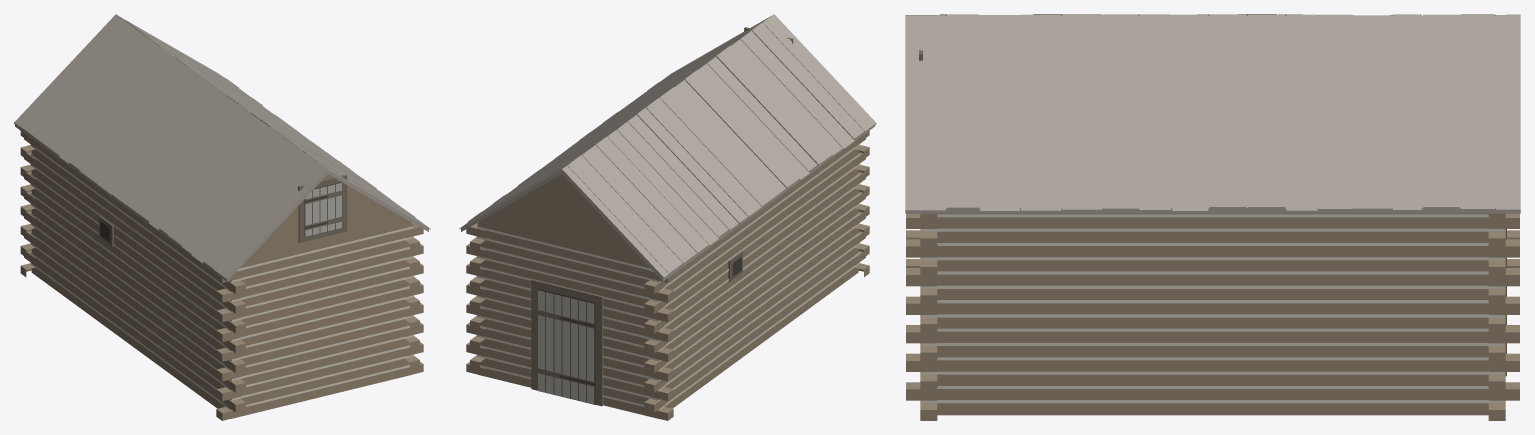
File: recon_1835_blk_washington_wells_a1_11__inferred_1835.glb
3 views of the same model, side by side, from view 1: azimuth 30°, elevation 25°; view 2: azimuth 150°, elevation 25°; view 3: azimuth 270°, elevation 25° (orthographic). The views are drawn at different scales.
Visible parts, largest first — view 1: recon_1835_blk_washington_wells_a1_11__inferred_1835; view 2: recon_1835_blk_washington_wells_a1_11__inferred_1835; view 3: recon_1835_blk_washington_wells_a1_11__inferred_1835.
Part boxes in pixels (<box>): recon_1835_blk_washington_wells_a1_11__inferred_1835: <box>14,14,430,420</box>; recon_1835_blk_washington_wells_a1_11__inferred_1835: <box>459,14,876,420</box>; recon_1835_blk_washington_wells_a1_11__inferred_1835: <box>905,14,1520,420</box>.
Bounding box in the file's own units: 4.88 × 5.24 × 8.67.
